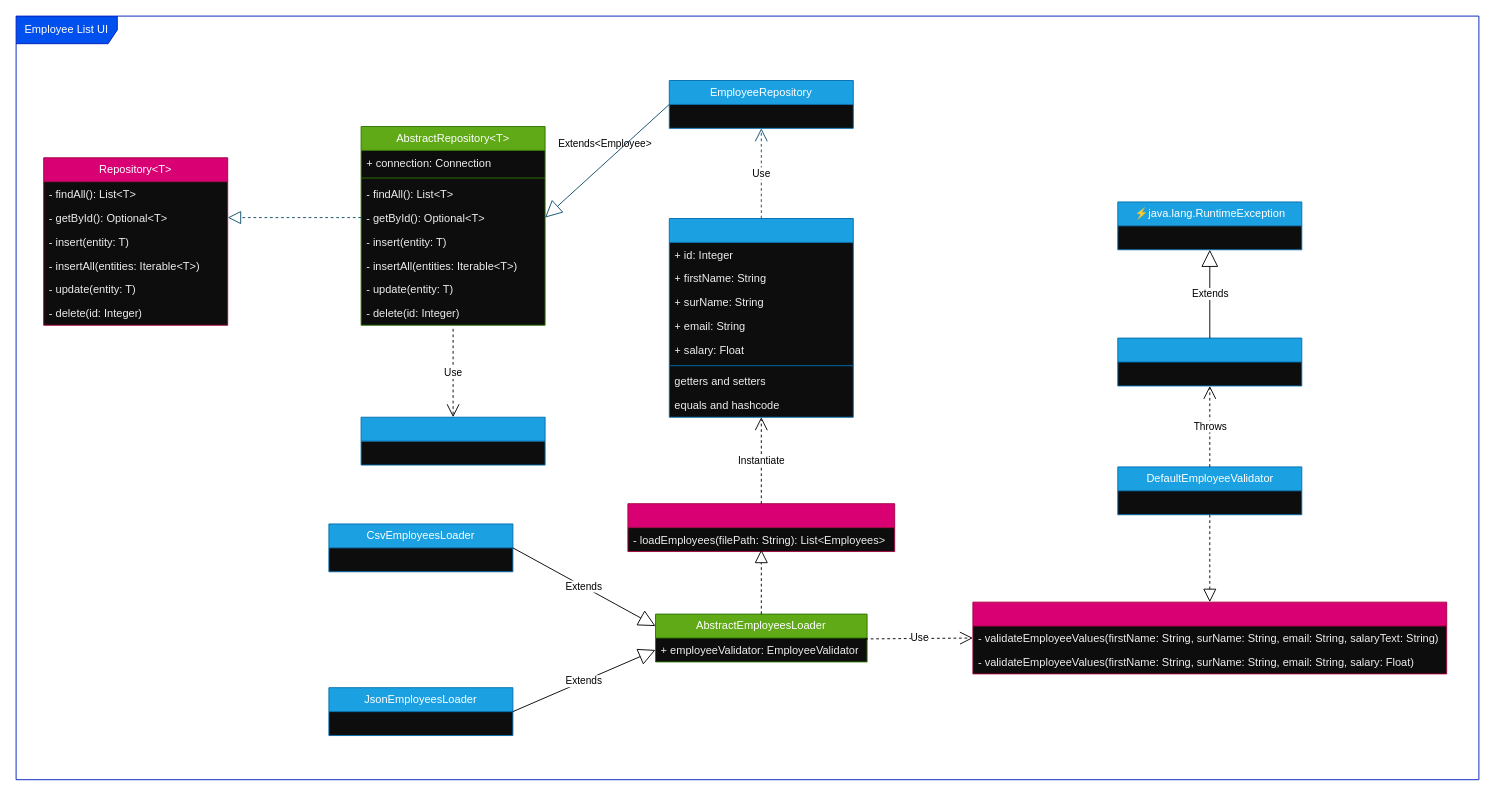
This 1495x796 diagram has some shape labels left out. Here are the shapes that lost their labels. From the top down, the box of each, then its label:
(668, 218, 853, 417): Employee
(1117, 337, 1302, 386): ⚡EmployeeValidationException
(360, 416, 545, 465): java.sql.Connection
(627, 503, 895, 552): EmployeesLoader
(972, 601, 1447, 674): EmployeeValidator
